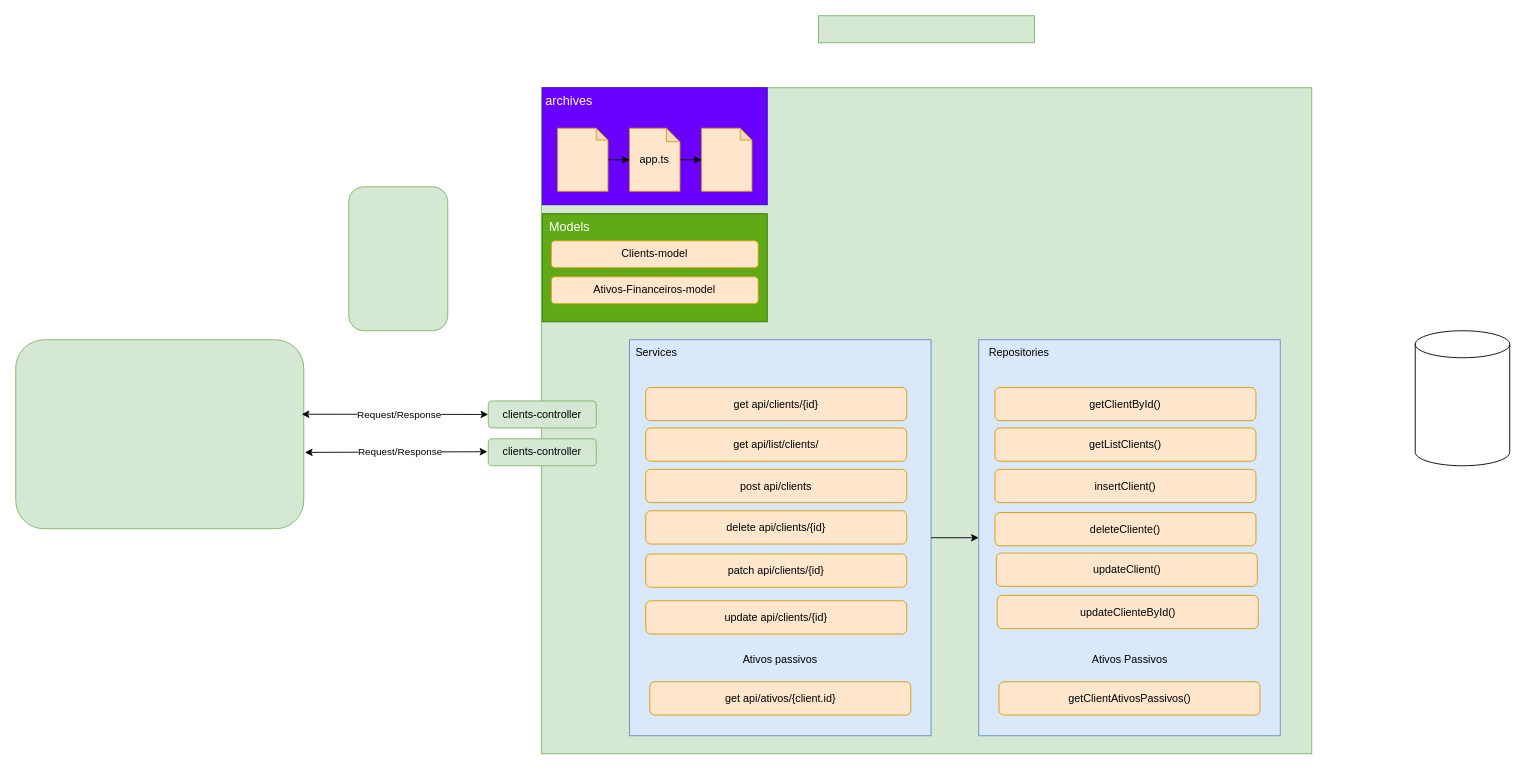
The diagram is 1526 pixels wide and 770 high, and some of its shapes have lost their labels. Here are the shapes that lost their labels. From the top down, the box of each, then its label:
(818, 15, 1035, 43): API REST CLIENT-INVEST-ANKA-TECH
(557, 127, 608, 191): server.ts
(701, 127, 752, 191): routes.ts
(348, 186, 448, 331): PORT: mysql://root
(1414, 330, 1510, 466): MySql Docker-compose
(15, 339, 304, 529): Next.JS
